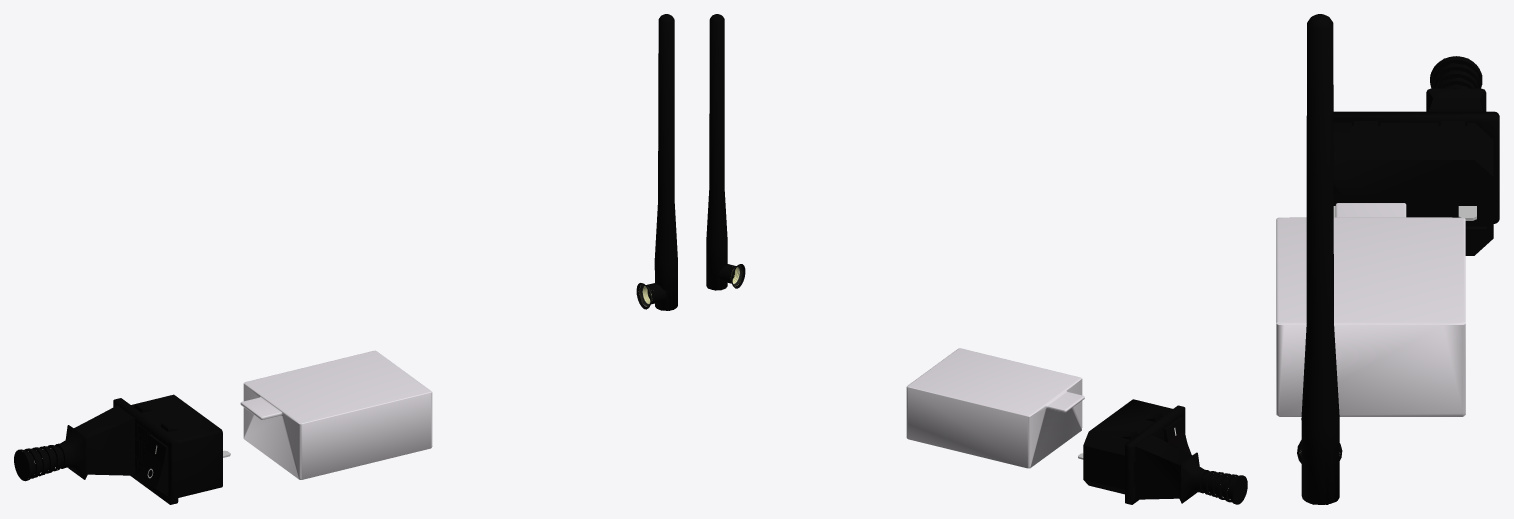
Rendered from details-box.glb.
3 views of the same model, side by side, from view 1: azimuth 30°, elevation 25°; view 2: azimuth 150°, elevation 25°; view 3: azimuth 270°, elevation 25° (orthographic). The views are drawn at different scales.
Parts seen in each view (by area): view 1: Block, C14 Combo Socket (AC-14-F16) v1, Object_4.001, Object_0.002; view 2: Block, C14 Combo Socket (AC-14-F16) v1, Object_4.001, Object_0.002; view 3: Block, C14 Combo Socket (AC-14-F16) v1, Object_4.001, Object_0.002.
Boxes of the visible parts, box(x1,y1,x2,y2) form: Block: box(240, 350, 432, 479); C14 Combo Socket (AC-14-F16) v1: box(113, 394, 230, 504); Object_4.001: box(642, 14, 677, 310); Object_0.002: box(14, 405, 135, 481); Block: box(906, 348, 1084, 468); C14 Combo Socket (AC-14-F16) v1: box(1078, 399, 1191, 504); Object_4.001: box(706, 14, 736, 290); Object_0.002: box(1133, 434, 1247, 504); Block: box(1276, 203, 1465, 416); C14 Combo Socket (AC-14-F16) v1: box(1306, 111, 1499, 255); Object_4.001: box(1301, 14, 1339, 504); Object_0.002: box(1426, 56, 1486, 111).
Size of the model in its own units: 0.3035 by 0.1731 by 0.0578.
8 materials, 1 textured.
